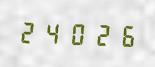four: (41, 18, 63, 46)
six: (110, 21, 132, 48)
two: (18, 17, 40, 45), (87, 20, 109, 48)
zero: (64, 19, 86, 47)
